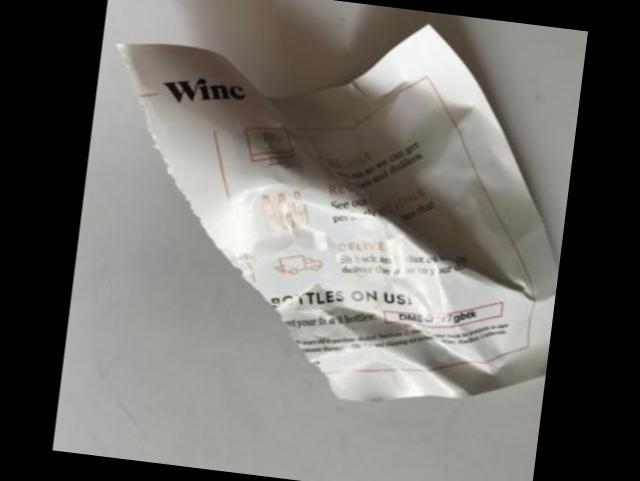cardboard paper: (118, 28, 557, 401)
